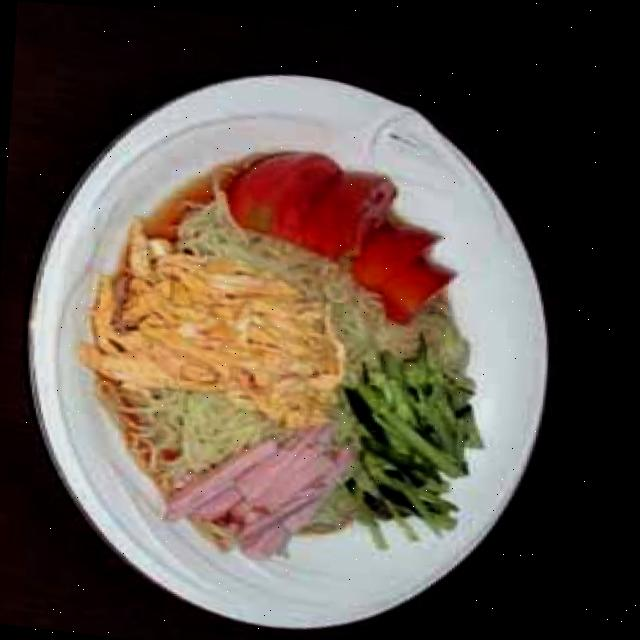面条主食: (0, 21, 591, 640)
